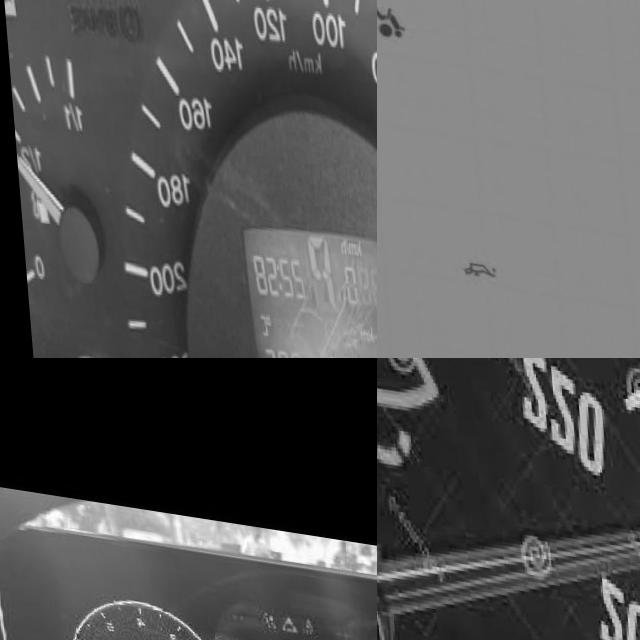Seat Belt: (299, 608, 312, 624)
